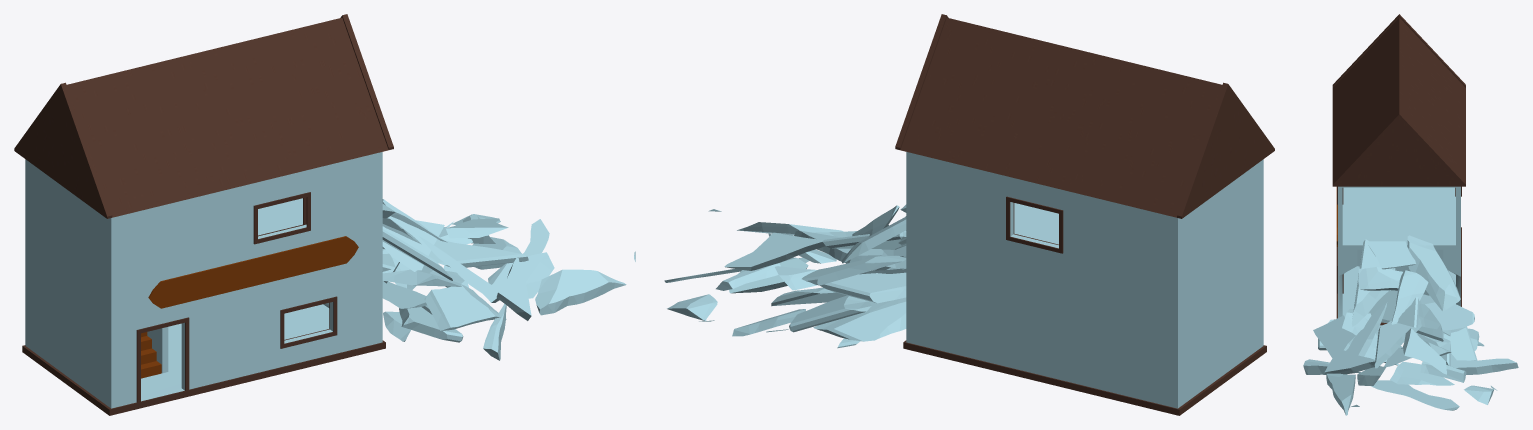
The model's file is house5.fbx.
The picture shows the model from 3 angles, left to right: view 1: azimuth 30°, elevation 25°; view 2: azimuth 150°, elevation 25°; view 3: azimuth 270°, elevation 25°; orthographic projection. The views are drawn at different scales.
Visible parts, largest first — view 1: polySurface103; view 2: polySurface103; view 3: polySurface103.
Part boxes in pixels (x1=…): polySurface103: x1=14, y1=14, x2=635, y2=415; polySurface103: x1=664, y1=14, x2=1274, y2=415; polySurface103: x1=1303, y1=14, x2=1518, y2=415.
Size of the model in its own units: 1699 by 951 by 808.
3 materials, 2 textured.
